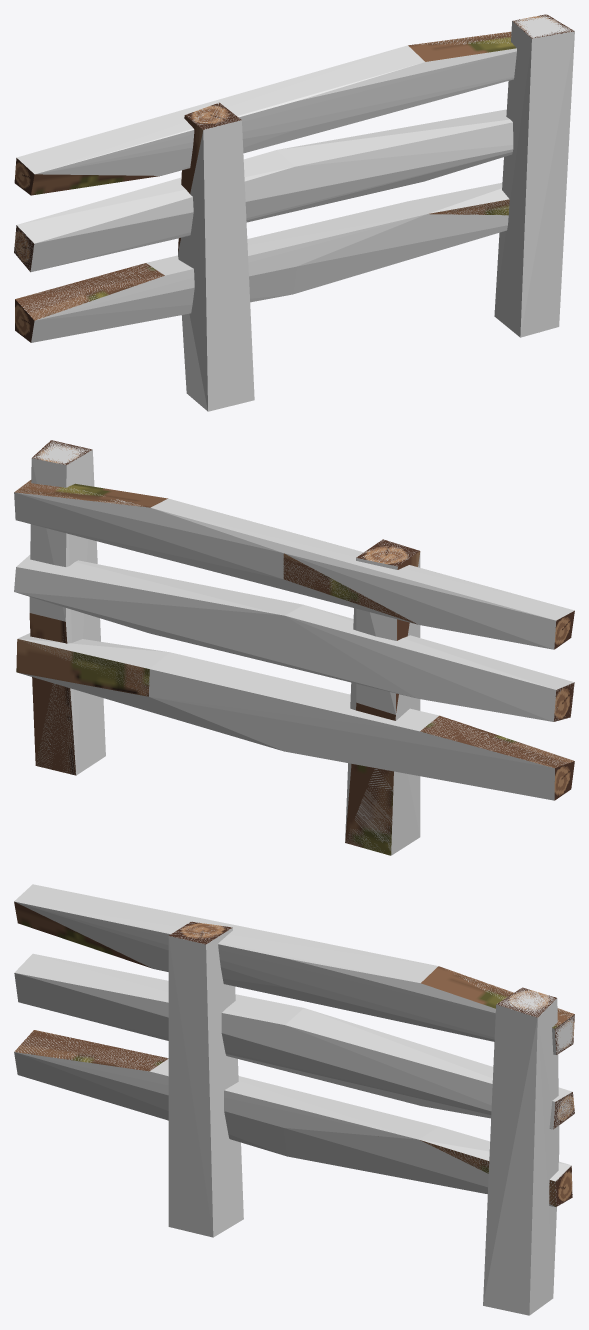
Rendered from SM_ST01_FenceSection_Parts.fbx.
3 renders of one model, top to bottom at view 1: azimuth 30°, elevation 25°; view 2: azimuth 150°, elevation 25°; view 3: azimuth 330°, elevation 25°, orthographic. The views are drawn at different scales.
Parts seen in each view (by area): view 1: ST01_Rail_2_COL, ST01_Rail_3_COL, ST01_Rail_1_COL, ST01_Post_2_COL, ST01_Post_1_COL, ST01_Rail_1, ST01_Rail_3, ST01_Post_1, ST01_Rail_2; view 2: ST01_Rail_2_COL, ST01_Rail_1_COL, ST01_Rail_3_COL, ST01_Post_2_COL, ST01_Rail_1, ST01_Post_1_COL, ST01_Post_1, ST01_Post_2, ST01_Rail_3, ST01_Rail_2; view 3: ST01_Rail_2_COL, ST01_Rail_3_COL, ST01_Rail_1_COL, ST01_Post_2_COL, ST01_Post_1_COL, ST01_Rail_1, ST01_Rail_3, ST01_Post_1, ST01_Post_2.
Part boxes in pixels (<box>): ST01_Rail_2_COL: <box>14,109,513,271</box>; ST01_Rail_3_COL: <box>16,32,516,175</box>; ST01_Rail_1_COL: <box>19,183,509,342</box>; ST01_Post_2_COL: <box>494,14,574,337</box>; ST01_Post_1_COL: <box>178,103,254,411</box>; ST01_Rail_1: <box>15,199,509,342</box>; ST01_Rail_3: <box>14,31,516,195</box>; ST01_Post_1: <box>178,102,241,251</box>; ST01_Rail_2: <box>14,225,34,271</box>; ST01_Rail_2_COL: <box>14,555,573,721</box>; ST01_Rail_1_COL: <box>17,633,572,800</box>; ST01_Rail_3_COL: <box>14,481,574,649</box>; ST01_Post_2_COL: <box>29,440,105,775</box>; ST01_Rail_1: <box>16,639,574,800</box>; ST01_Post_1_COL: <box>345,540,420,855</box>; ST01_Post_1: <box>345,539,420,855</box>; ST01_Post_2: <box>29,440,91,775</box>; ST01_Rail_3: <box>14,480,574,649</box>; ST01_Rail_2: <box>553,682,574,721</box>; ST01_Rail_2_COL: <box>14,953,574,1129</box>; ST01_Rail_3_COL: <box>14,884,574,1054</box>; ST01_Rail_1_COL: <box>14,1031,572,1206</box>; ST01_Post_2_COL: <box>483,988,559,1315</box>; ST01_Post_1_COL: <box>168,921,243,1237</box>; ST01_Rail_1: <box>14,1030,572,1206</box>; ST01_Rail_3: <box>14,901,574,1054</box>; ST01_Post_1: <box>169,921,232,944</box>; ST01_Post_2: <box>496,987,556,1017</box>.
Size of the model in its own units: 2.19 by 1.19 by 0.2697.
